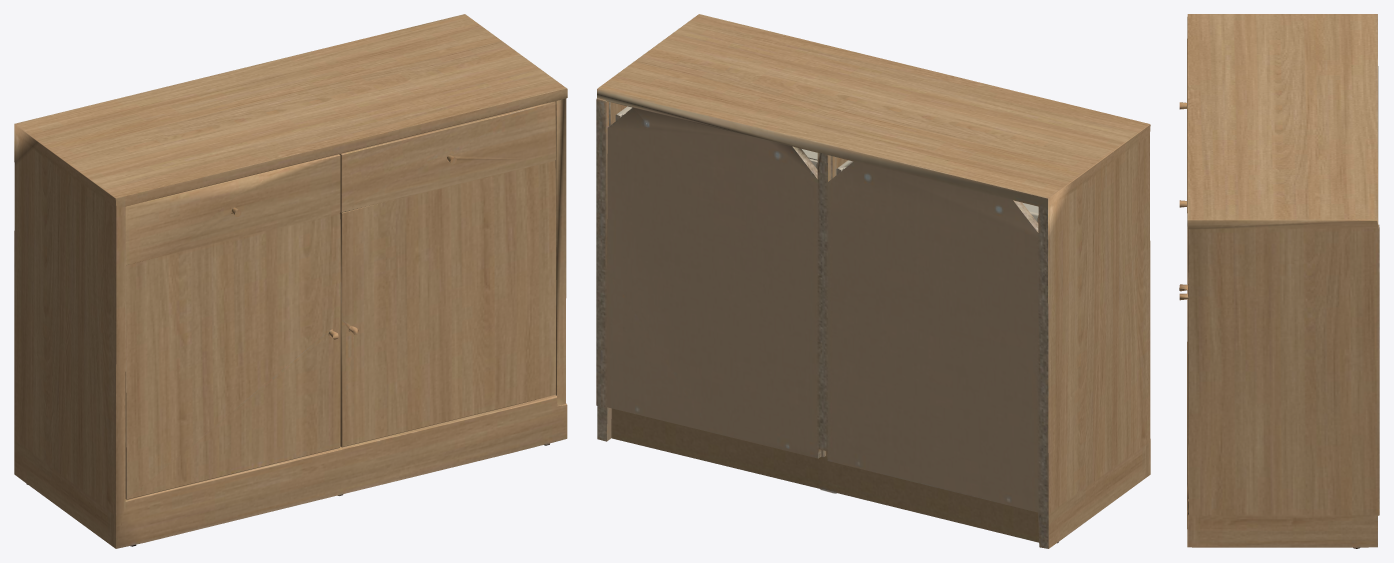
3 renders of one model, left to right at view 1: azimuth 30°, elevation 25°; view 2: azimuth 150°, elevation 25°; view 3: azimuth 270°, elevation 25°, orthographic. The views are drawn at different scales.
Visible parts, largest first — view 1: 20489297-TONSTAD001; view 2: 20489297-TONSTAD001; view 3: 20489297-TONSTAD001.
Boxes of the visible parts, bbox=[...] form: 20489297-TONSTAD001: bbox=[14, 14, 567, 548]; 20489297-TONSTAD001: bbox=[596, 14, 1150, 548]; 20489297-TONSTAD001: bbox=[1179, 14, 1379, 548].
Size of the model in its own units: 1.21 by 0.8999 by 0.4951.
1 material, 1 textured.
